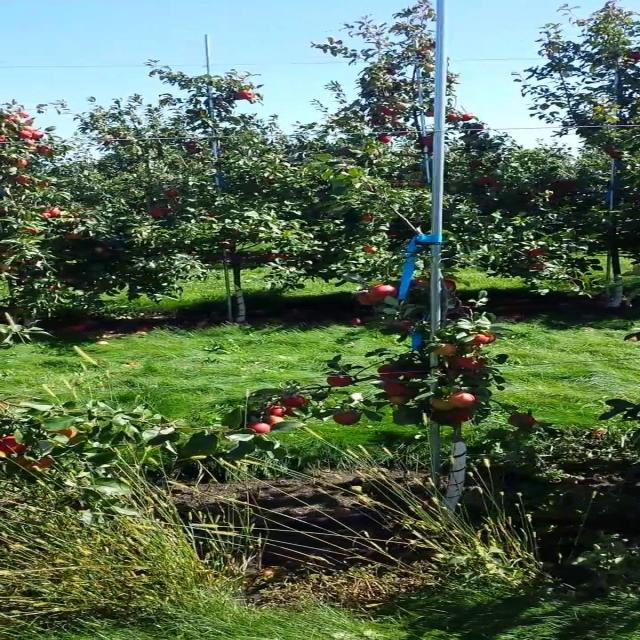apple: (20, 456, 55, 471), (369, 284, 398, 300), (454, 356, 487, 370), (333, 412, 363, 426), (326, 376, 356, 388), (454, 392, 476, 408), (355, 292, 380, 306), (6, 440, 28, 455), (433, 344, 460, 356), (447, 412, 471, 424), (383, 384, 409, 395), (284, 396, 306, 408), (511, 416, 535, 427), (433, 400, 455, 411), (56, 428, 78, 439), (248, 424, 270, 433), (269, 404, 284, 416), (383, 368, 398, 380), (390, 396, 411, 404), (383, 372, 400, 381), (269, 416, 284, 426), (468, 336, 484, 345), (397, 324, 412, 333), (404, 372, 420, 380), (468, 336, 482, 345), (483, 336, 498, 344), (412, 280, 427, 287), (447, 280, 455, 292)
